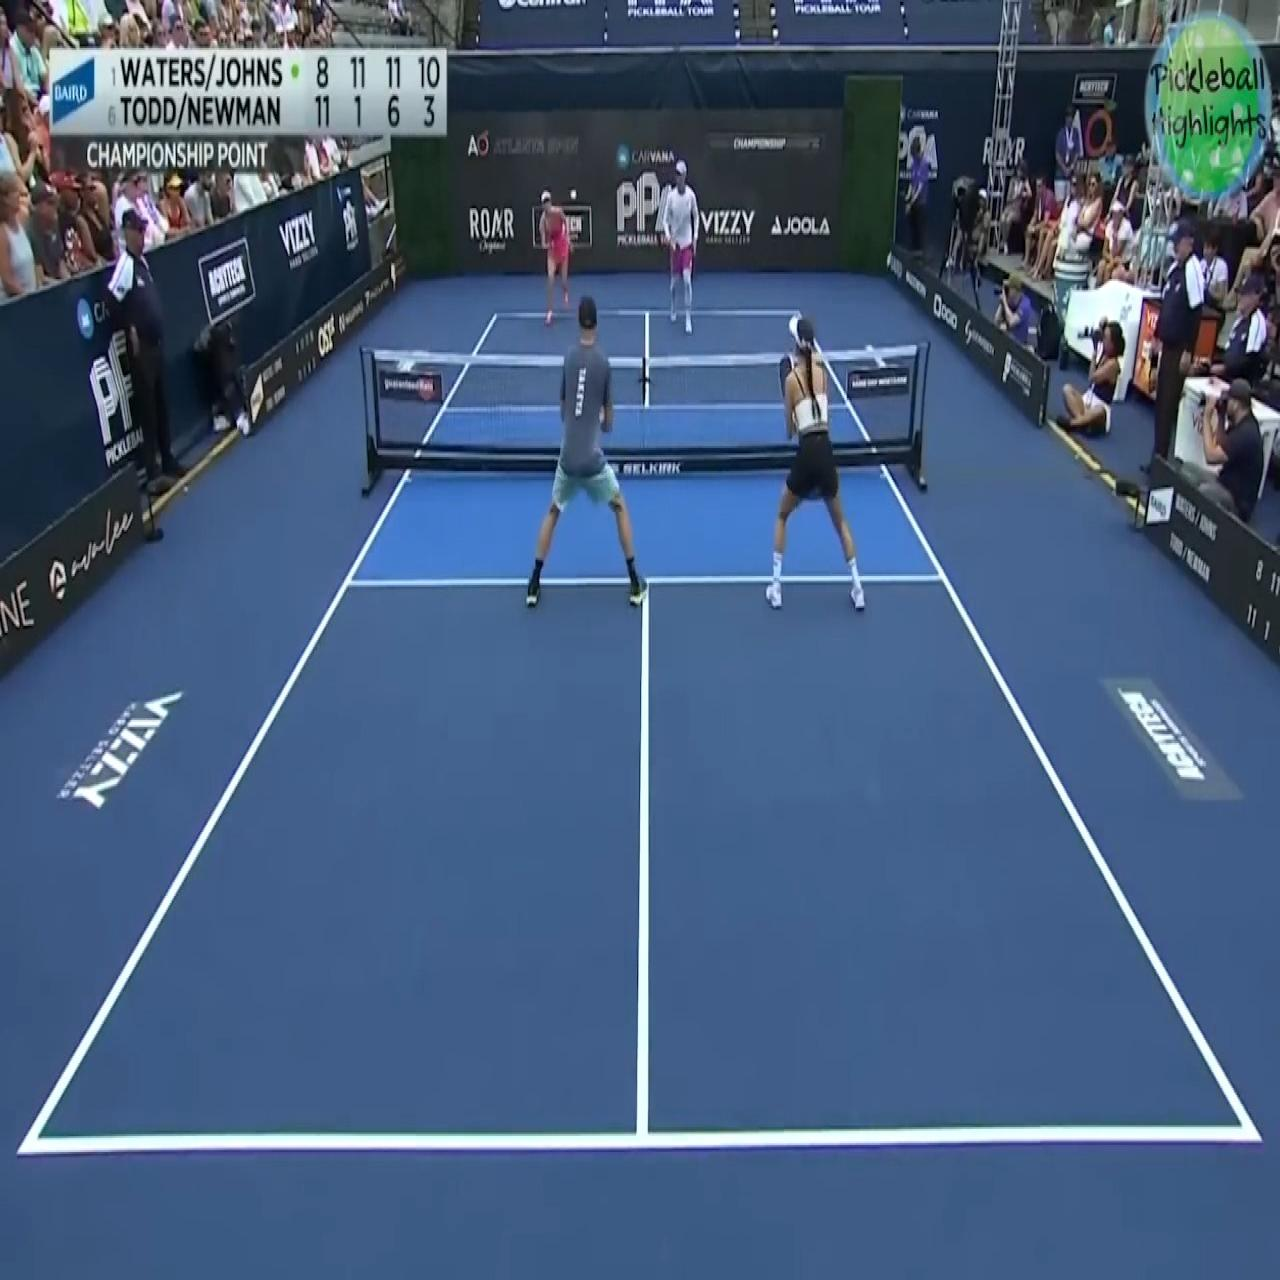Pickleball: (567, 182, 579, 199)
